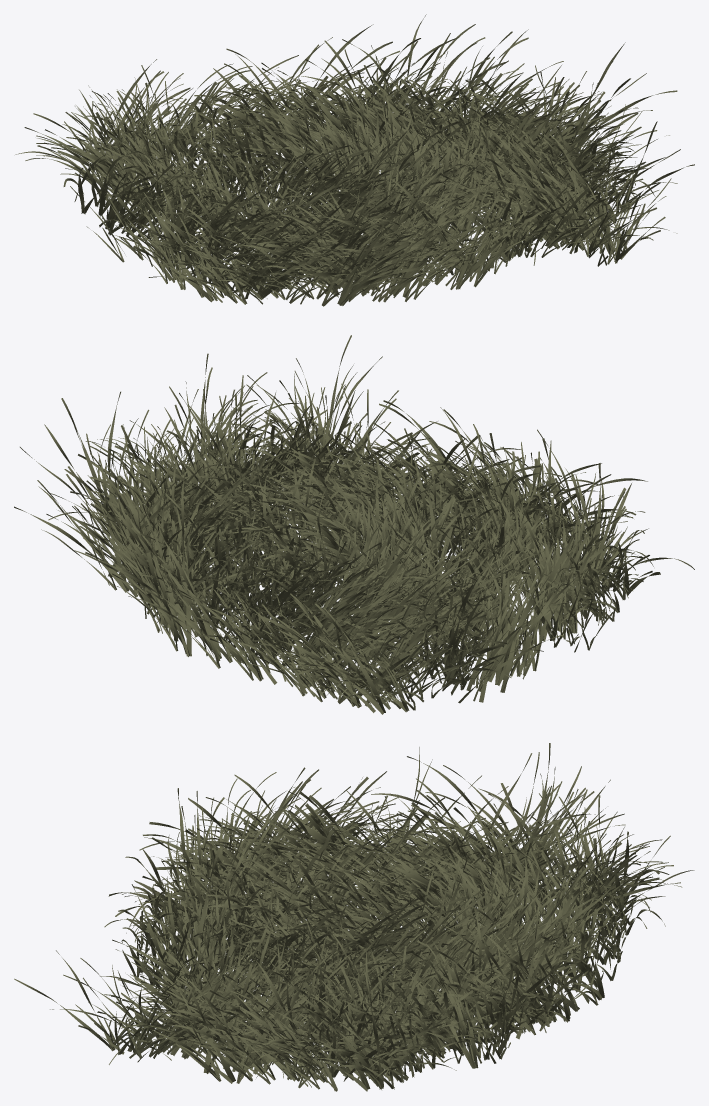
Rendered from grass.fbx.
3 views of the same model, one above another, from view 1: azimuth 30°, elevation 25°; view 2: azimuth 150°, elevation 25°; view 3: azimuth 270°, elevation 25° (orthographic). The views are drawn at different scales.
Visible parts, largest first — view 1: grassClump1Main; view 2: grassClump1Main; view 3: grassClump1Main.
Boxes of the visible parts, bbox=[...] form: grassClump1Main: bbox=[15, 14, 694, 306]; grassClump1Main: bbox=[14, 335, 694, 714]; grassClump1Main: bbox=[14, 743, 694, 1091].
Size of the model in its own units: 4.71 by 0.9528 by 4.46.
